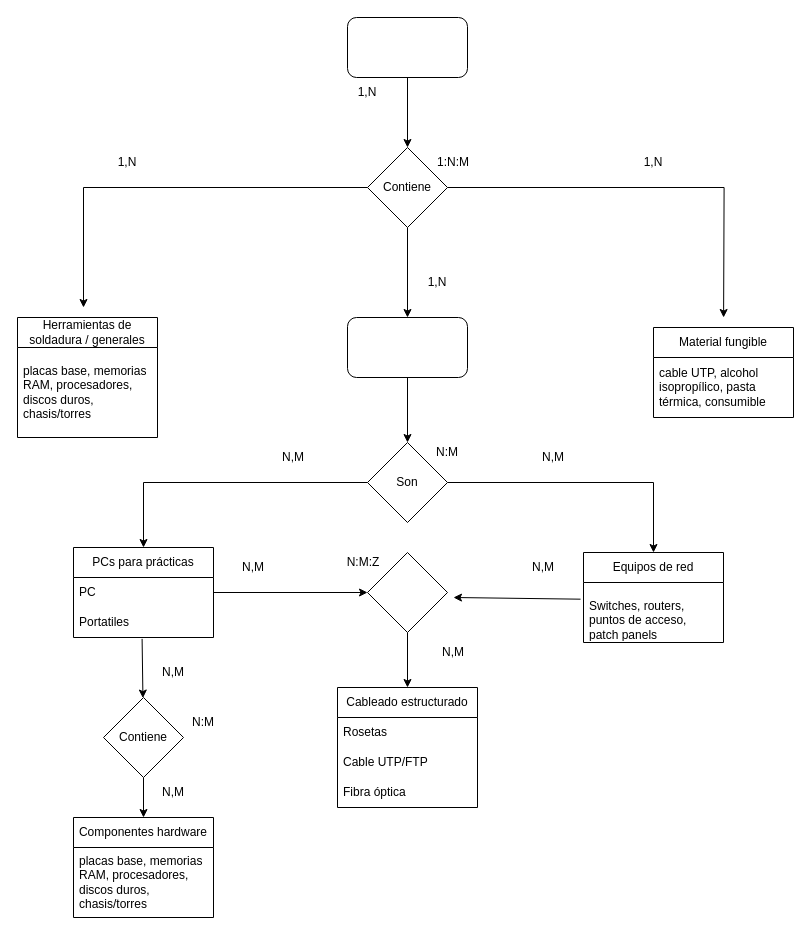
The diagram is 811 pixels wide and 935 high, and some of its shapes have lost their labels. Here are the shapes that lost their labels. From the top down, the centre of each, then its label:
At [407,47]: "Taller".
At [407,347]: "Equipos".
At [407,592]: "Utilizan".
